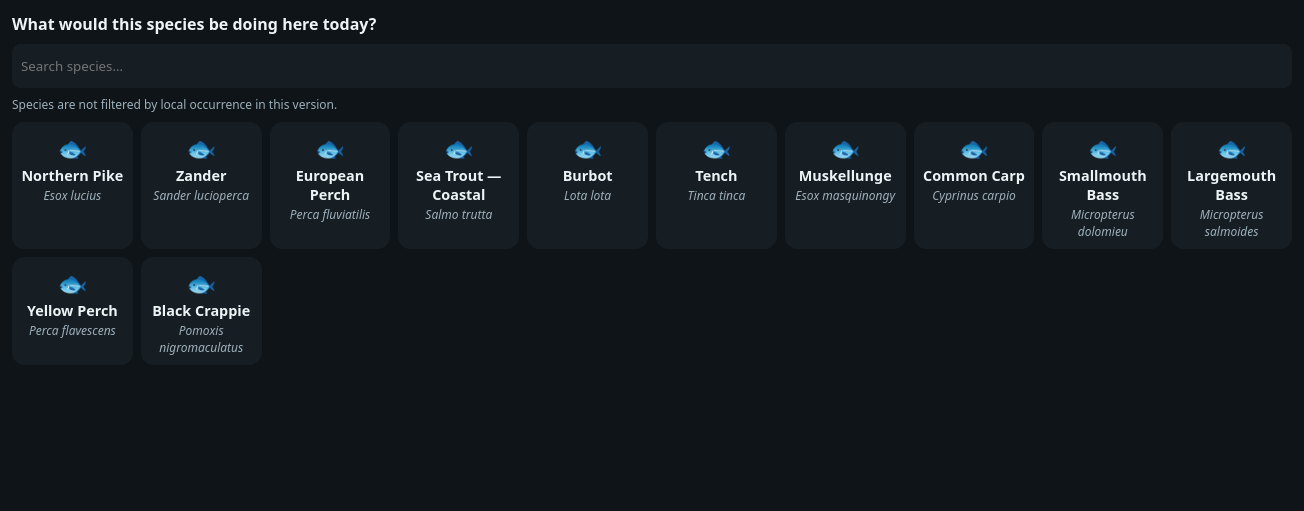
it: FishActivityView › selecting the accessibility species (Sea Trout) shows habitat/accessibility framing, not a fake activity score
Click the button "🐟 Sea Trout — Coastal Salmo trutta": [459, 186] box [398, 122, 519, 249]
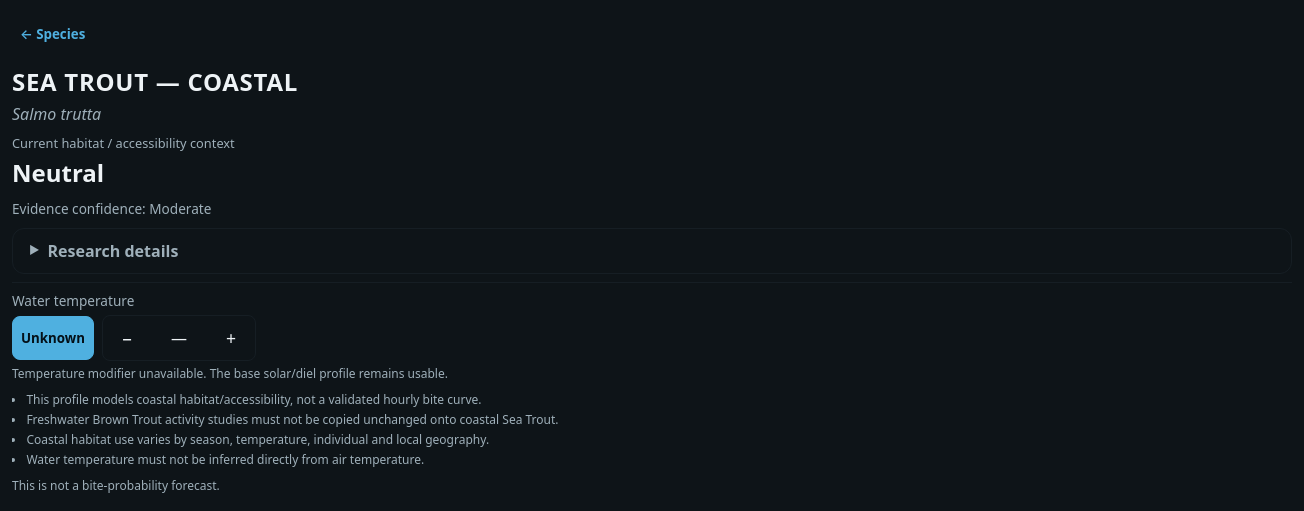
Expected: the text "Current habitat / accessibility context" is shown, [12, 134, 235, 152]
Expected: the text "This is not a bite-probability forecast." is shown, [12, 477, 220, 494]
Expected: the text "today" is gone
